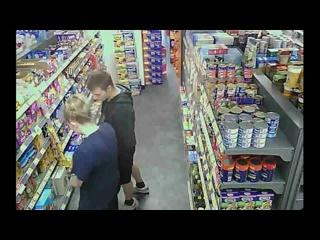Normal: (86, 70, 140, 210), (61, 94, 120, 210)
